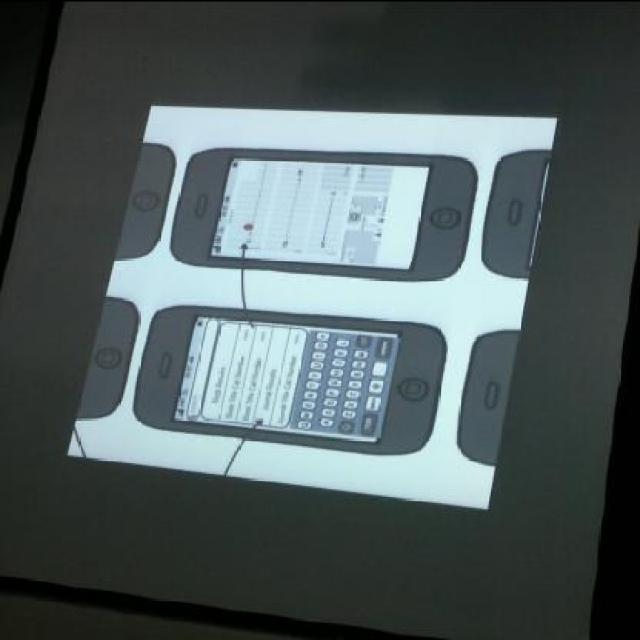phone: (133, 299, 462, 456), (173, 138, 477, 280), (455, 326, 531, 464), (485, 135, 556, 279), (109, 143, 183, 260), (85, 302, 133, 416)
